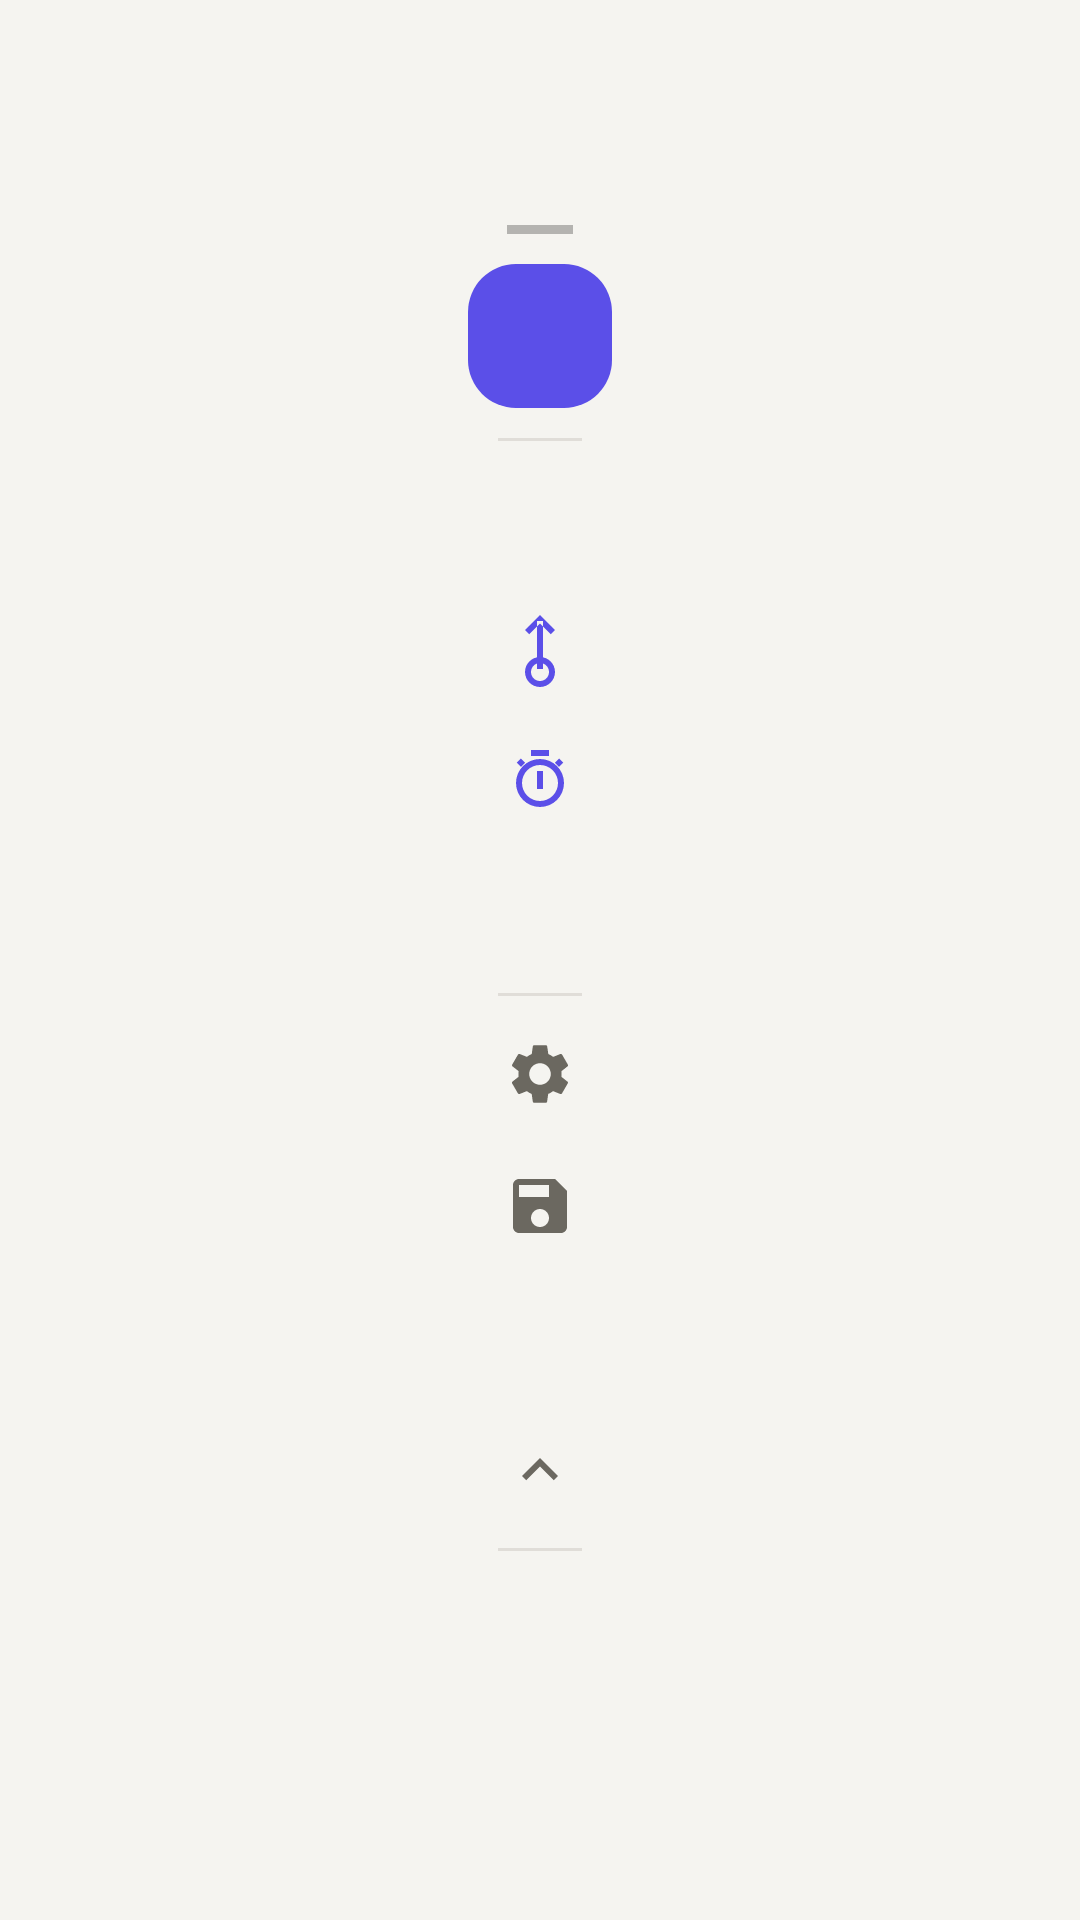

Icon click points for this 1080 × 1920 phone screenshot, format (x=x, y=y):
Add long press: (x=540, y=778)
Add swipe: (x=540, y=651)
Save: (x=540, y=1206)
Settings: (x=540, y=1074)
Show less: (x=540, y=1469)
